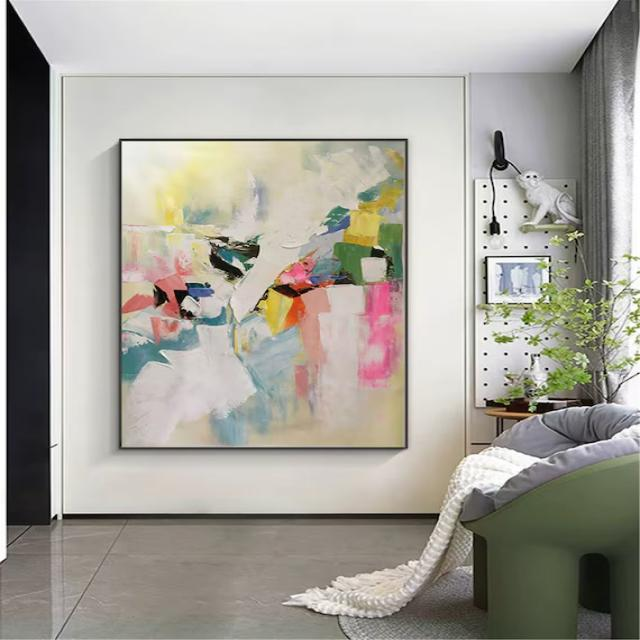painting: (117, 139, 409, 448)
